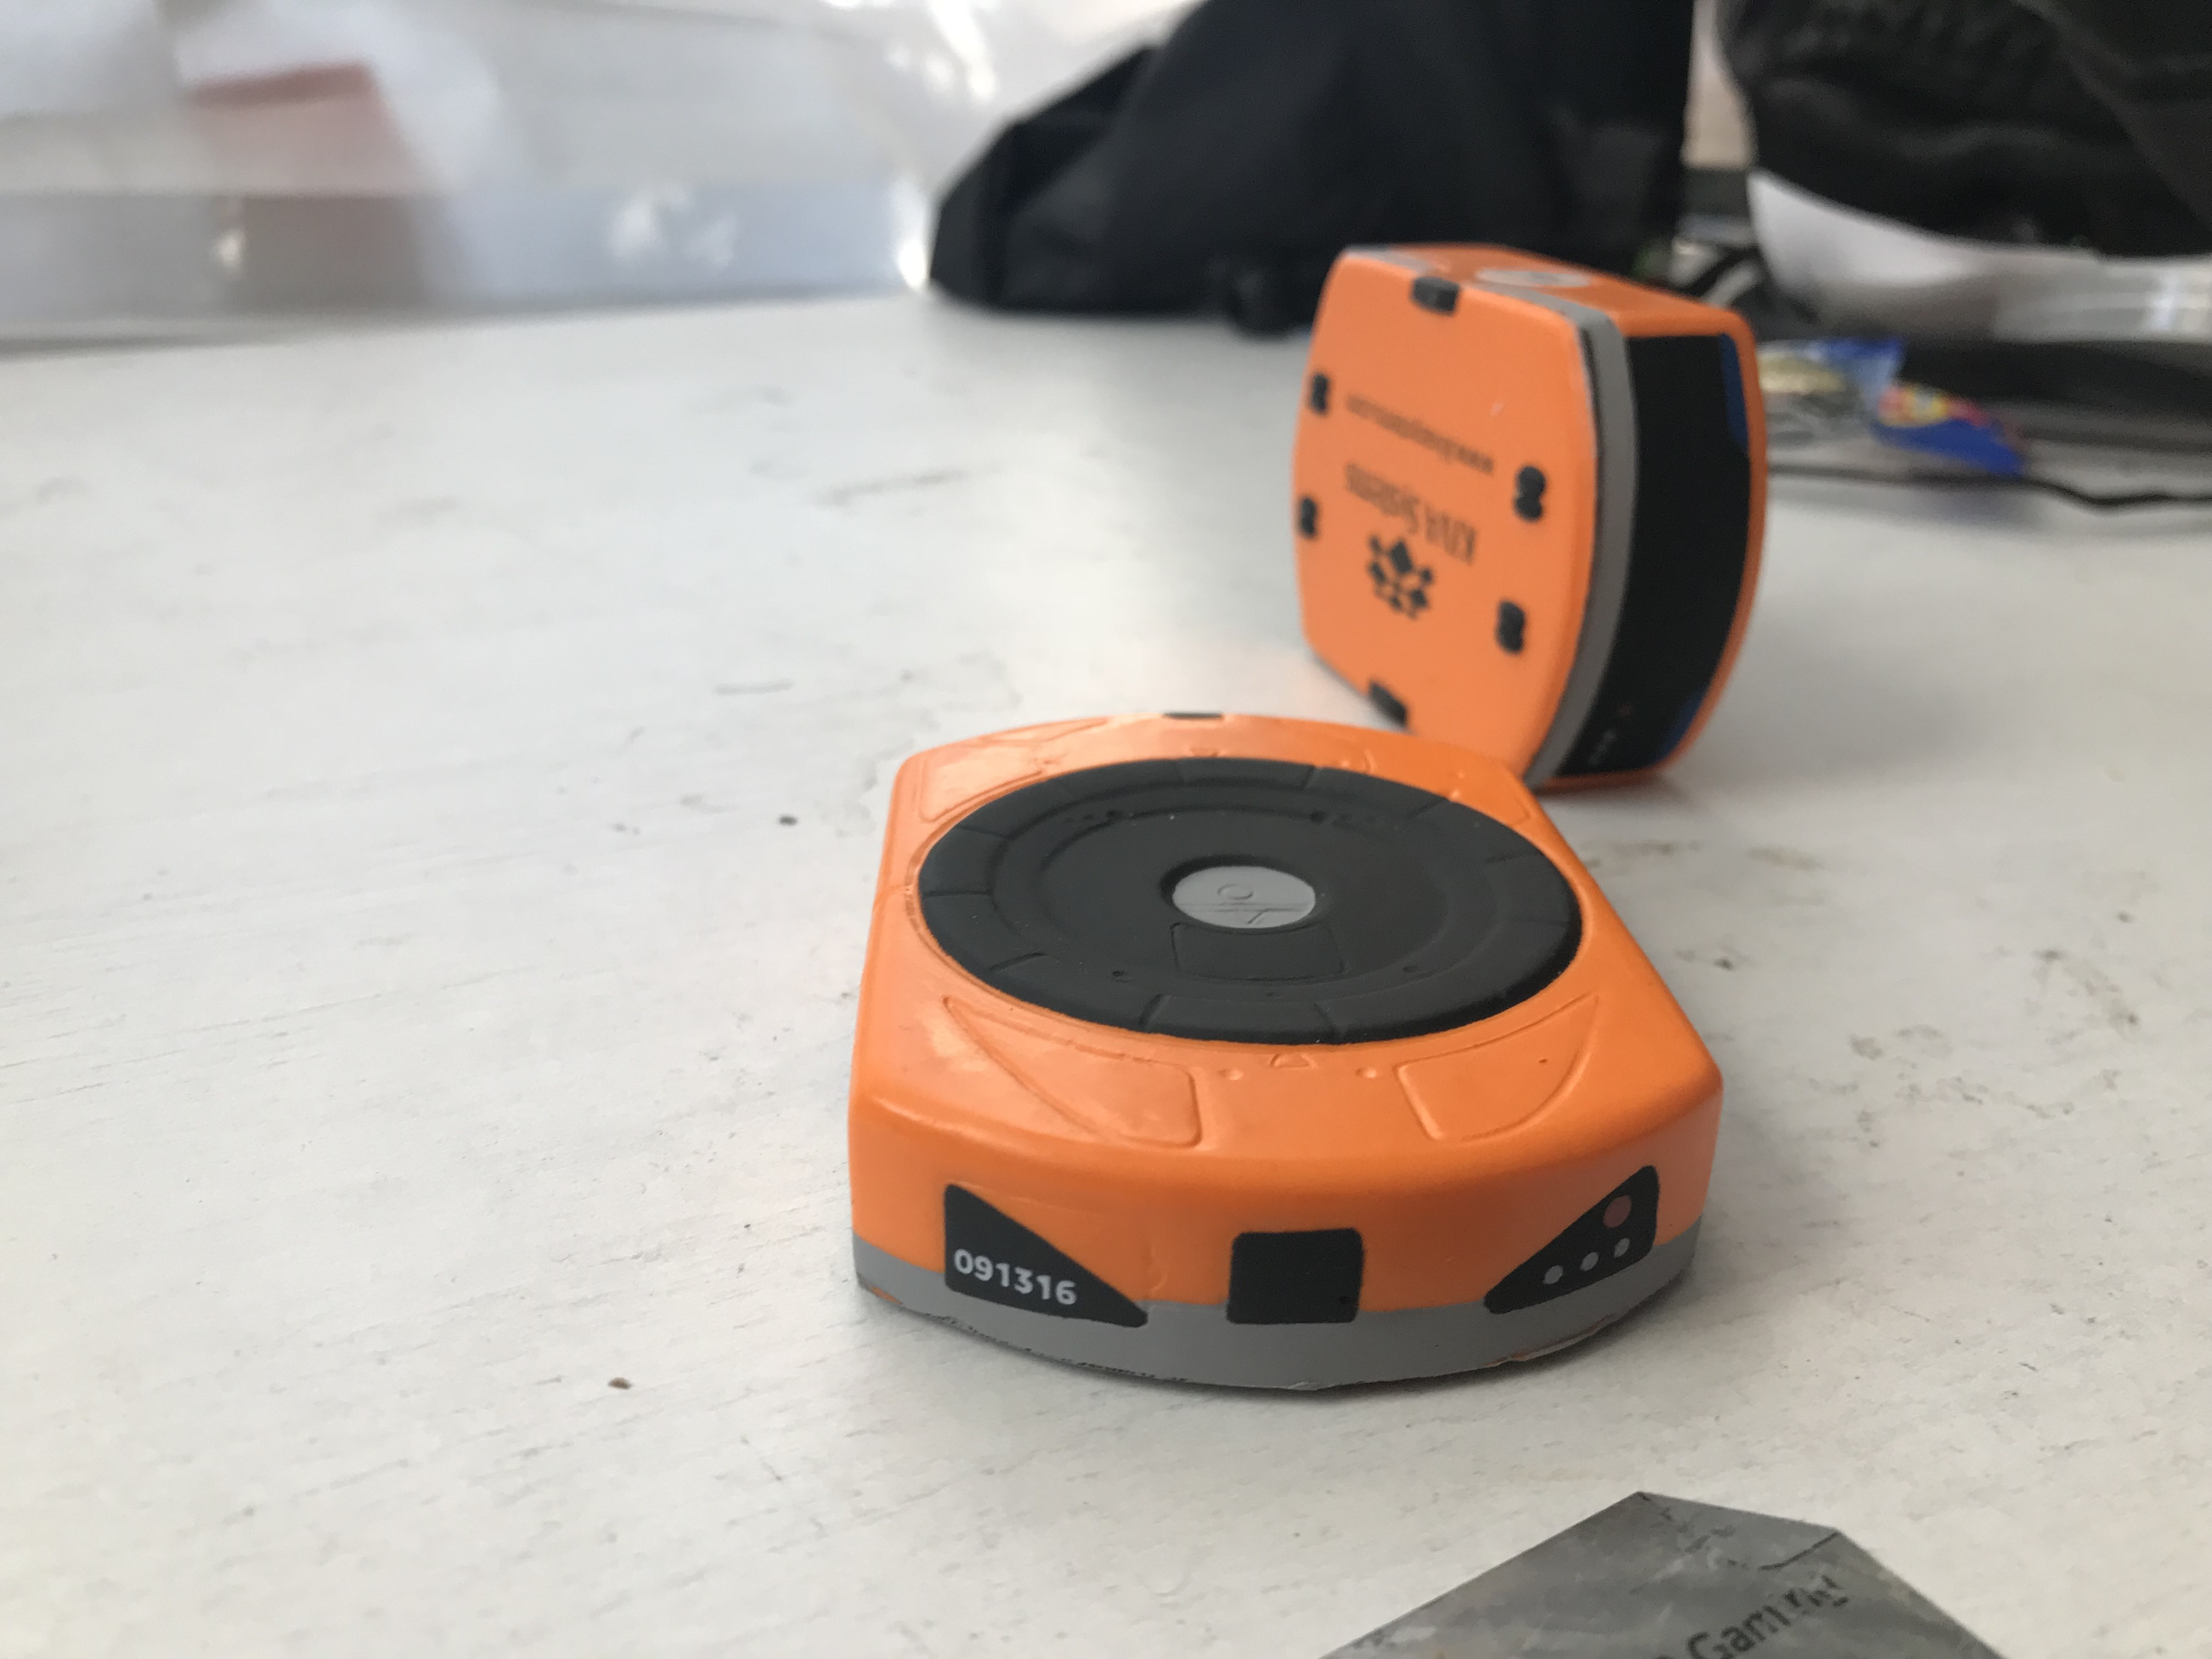amazon_bot: (829, 697, 1738, 1405), (1264, 220, 1801, 805)
